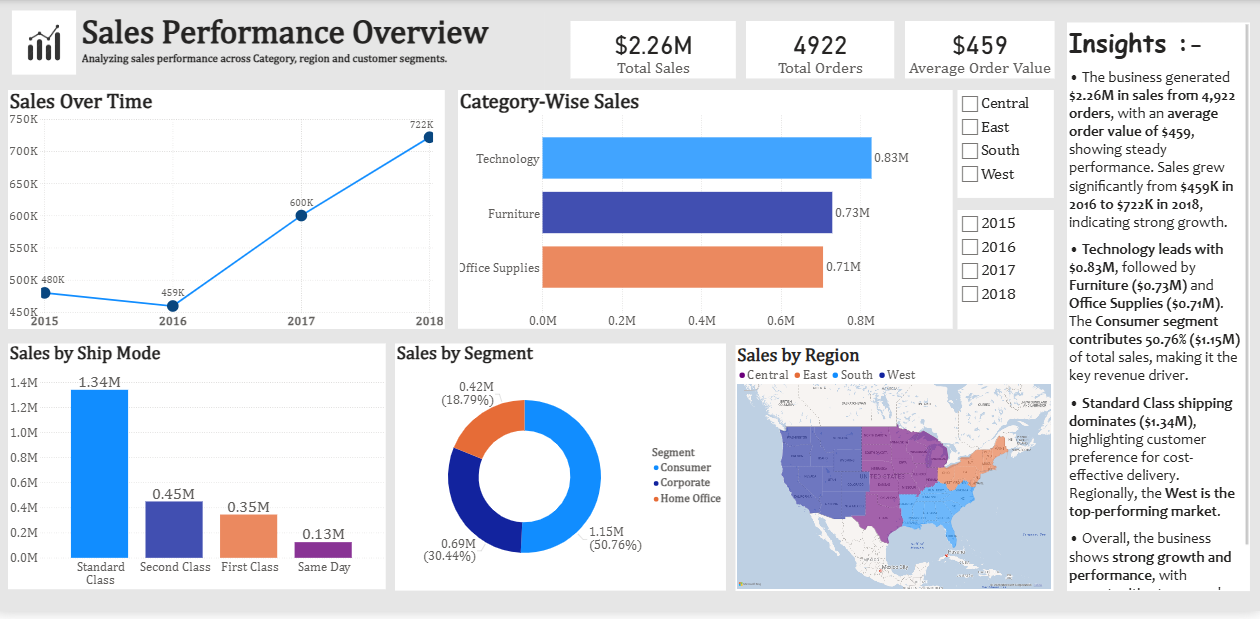

This screenshot's page, from the dashboard's own definition file:
{"tool":"powerbi","page":{"name":"Page 1","canvas":[3650,1760],"ordinal":0},"visuals":[{"type":"textbox","box":[248.4,33.1,1337.4,227.7],"z":0},{"type":"image","box":[42.2,30.7,207.4,184.3],"z":1000},{"type":"lineChart","title":"Sales Over Time","fields":{"Category":["Sales Dataset.Order Date.Variation.Date Hierarchy.Year"],"Y":["Sum(Sales Dataset.Sales)"]},"box":[43.5,260.9,1257.2,687.9],"z":2000},{"type":"barChart","title":"Category-Wise Sales","fields":{"Category":["Sales Dataset.Category"],"Y":["Sum(Sales Dataset.Sales)"]},"box":[1337.4,260.8,1424.3,687.3],"z":3000},{"type":"card","fields":{"Values":["Measures (2).Total Sales"]},"box":[1664.4,62.1,476.1,165.6],"z":4000},{"type":"card","fields":{"Values":["Measures (2).Total Orders"]},"box":[2169.6,62.1,426.5,165.6],"z":5000},{"type":"card","fields":{"Values":["Measures (2).AVerage Order Value"]},"box":[2625,62.1,430.6,165.6],"z":6000},{"type":"columnChart","title":"Sales by Ship Mode","fields":{"Category":["Sales Dataset.Ship Mode"],"Y":["Sum(Sales Dataset.Sales)"]},"box":[43.5,988.4,1087.2,707.7],"z":7000},{"type":"donutChart","title":"Sales by Segment","fields":{"Category":["Sales Dataset.Segment"],"Y":["Sum(Sales Dataset.Sales)"]},"box":[1158.3,988.4,952.8,711.6],"z":8000},{"type":"filledMap","title":"Sales by Region","fields":{"Category":["Sales Dataset.State"],"Series":["Sales Dataset.Region"]},"box":[2138.8,992.3,913.2,707.7],"z":9000},{"type":"slicer","fields":{"Values":["Sales Dataset.Region"]},"box":[2778.2,260.8,277.4,310.5],"z":10000},{"type":"slicer","fields":{"Values":["Sales Dataset.Order Date.Variation.Date Hierarchy.Year"]},"box":[2778.2,604.5,277.4,343.7],"z":11000},{"type":"textbox","box":[3091.6,64.8,526.8,1636.5],"z":12000}]}

Visuals, with their boxes in screenshot pixels (x1, y1, x2, y2), scaled from the page's 3650x1760 canvas onto the 1260x619 screenshot:
textbox: BBox(86, 12, 547, 92)
image: BBox(15, 11, 86, 76)
"Sales Over Time" lineChart: BBox(15, 92, 449, 334)
"Category-Wise Sales" barChart: BBox(462, 92, 953, 333)
card - Measures (2).Total Sales: BBox(575, 22, 739, 80)
card - Measures (2).Total Orders: BBox(749, 22, 896, 80)
card - Measures (2).AVerage Order Value: BBox(906, 22, 1055, 80)
"Sales by Ship Mode" columnChart: BBox(15, 348, 390, 597)
"Sales by Segment" donutChart: BBox(400, 348, 729, 598)
"Sales by Region" filledMap: BBox(738, 349, 1054, 598)
slicer - Sales Dataset.Region: BBox(959, 92, 1055, 201)
slicer - Sales Dataset.Order Date.Variation.Date Hierarchy.Year: BBox(959, 213, 1055, 333)
textbox: BBox(1067, 23, 1249, 598)
